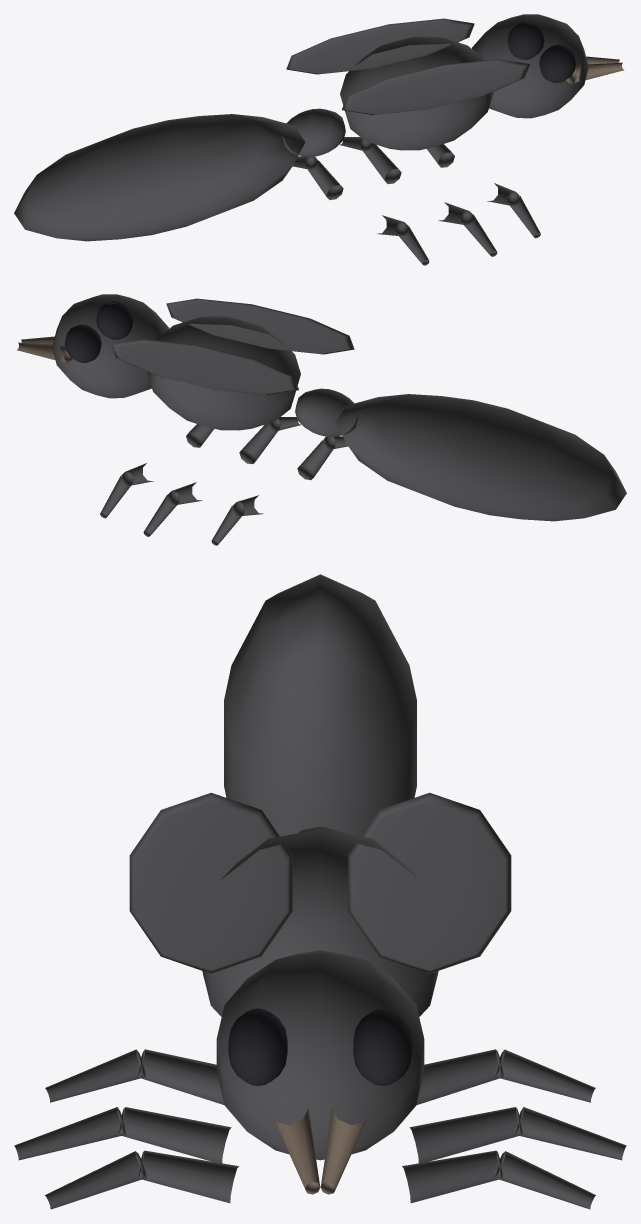
The model's file is predator.glb.
3 views of the same model, one above another, from view 1: azimuth 30°, elevation 25°; view 2: azimuth 150°, elevation 25°; view 3: azimuth 270°, elevation 25° (orthographic). The views are drawn at different scales.
Visible parts, largest first — view 1: Abdomen, ThoraxShell, WingL, HeadShell, WingR, Waist, EyeL, EyeR, FemurLegR2, FemurLegR3, JawL, TibiaLegL2 (+6 smaller); view 2: Abdomen, ThoraxShell, WingR, HeadShell, WingL, Waist, EyeR, EyeL, FemurLegL2, FemurLegL3, JawR, TibiaLegR2 (+6 smaller); view 3: Abdomen, HeadShell, WingL, WingR, ThoraxShell, EyeL, EyeR, FemurLegL2, FemurLegR2, FemurLegL1, FemurLegR1, FemurLegL3 (+9 smaller).
Boxes of the visible parts, bbox=[...] form: Abdomen: bbox=[14, 114, 305, 241]; ThoraxShell: bbox=[340, 36, 493, 150]; WingL: bbox=[342, 59, 529, 114]; HeadShell: bbox=[472, 14, 588, 118]; WingR: bbox=[286, 18, 474, 74]; Waist: bbox=[282, 108, 345, 156]; EyeL: bbox=[539, 44, 576, 82]; EyeR: bbox=[507, 21, 544, 59]; FemurLegR2: bbox=[361, 143, 401, 183]; FemurLegR3: bbox=[305, 159, 343, 199]; JawL: bbox=[566, 62, 623, 83]; TibiaLegL2: bbox=[461, 214, 497, 256]; Abdomen: bbox=[335, 394, 626, 521]; ThoraxShell: bbox=[147, 316, 300, 430]; WingR: bbox=[111, 339, 298, 394]; HeadShell: bbox=[52, 294, 168, 398]; WingL: bbox=[166, 298, 354, 354]; Waist: bbox=[295, 388, 358, 436]; EyeR: bbox=[64, 324, 101, 362]; EyeL: bbox=[96, 301, 133, 339]; FemurLegL2: bbox=[239, 423, 279, 463]; FemurLegL3: bbox=[297, 439, 335, 479]; JawR: bbox=[17, 342, 74, 363]; TibiaLegR2: bbox=[143, 494, 179, 536]; Abdomen: bbox=[224, 574, 416, 836]; HeadShell: bbox=[216, 950, 424, 1160]; WingL: bbox=[129, 792, 292, 973]; WingR: bbox=[348, 792, 511, 973]; ThoraxShell: bbox=[202, 829, 438, 1016]; EyeL: bbox=[228, 1008, 287, 1085]; EyeR: bbox=[353, 1008, 412, 1085]; FemurLegL2: bbox=[118, 1107, 231, 1163]; FemurLegR2: bbox=[409, 1107, 522, 1163]; FemurLegL1: bbox=[138, 1150, 238, 1203]; FemurLegR1: bbox=[402, 1150, 502, 1203]; FemurLegL3: bbox=[137, 1049, 224, 1105].
Bounding box in the file's own units: 1 × 0.2495 × 0.4423.
